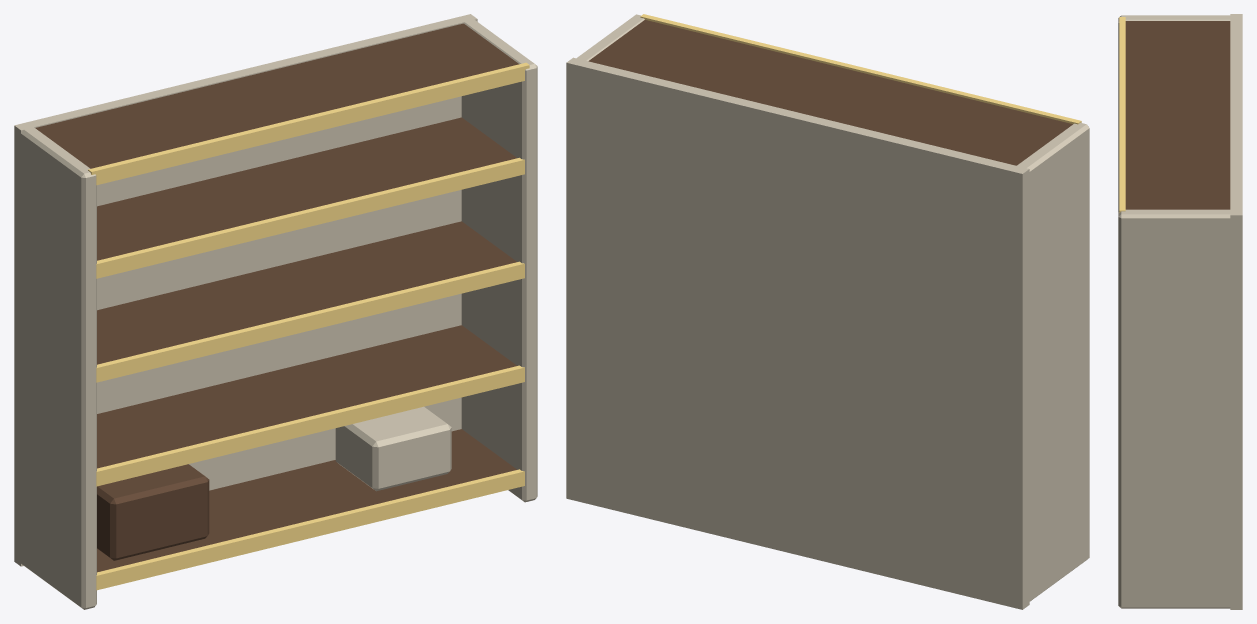
The model's file is lt_shelf_bb.glb.
The picture shows the model from 3 angles, left to right: view 1: azimuth 30°, elevation 25°; view 2: azimuth 150°, elevation 25°; view 3: azimuth 270°, elevation 25°; orthographic projection. The views are drawn at different scales.
Parts seen in each view (by area): view 1: lt_shelf_bb; view 2: lt_shelf_bb; view 3: lt_shelf_bb.
Part boxes in pixels (box(x1,y1,x2,y2)): lt_shelf_bb: box(14, 14, 537, 609); lt_shelf_bb: box(566, 14, 1089, 609); lt_shelf_bb: box(1118, 14, 1242, 609).
Bounding box in the file's own units: 2.3 × 2.11 × 0.6.
